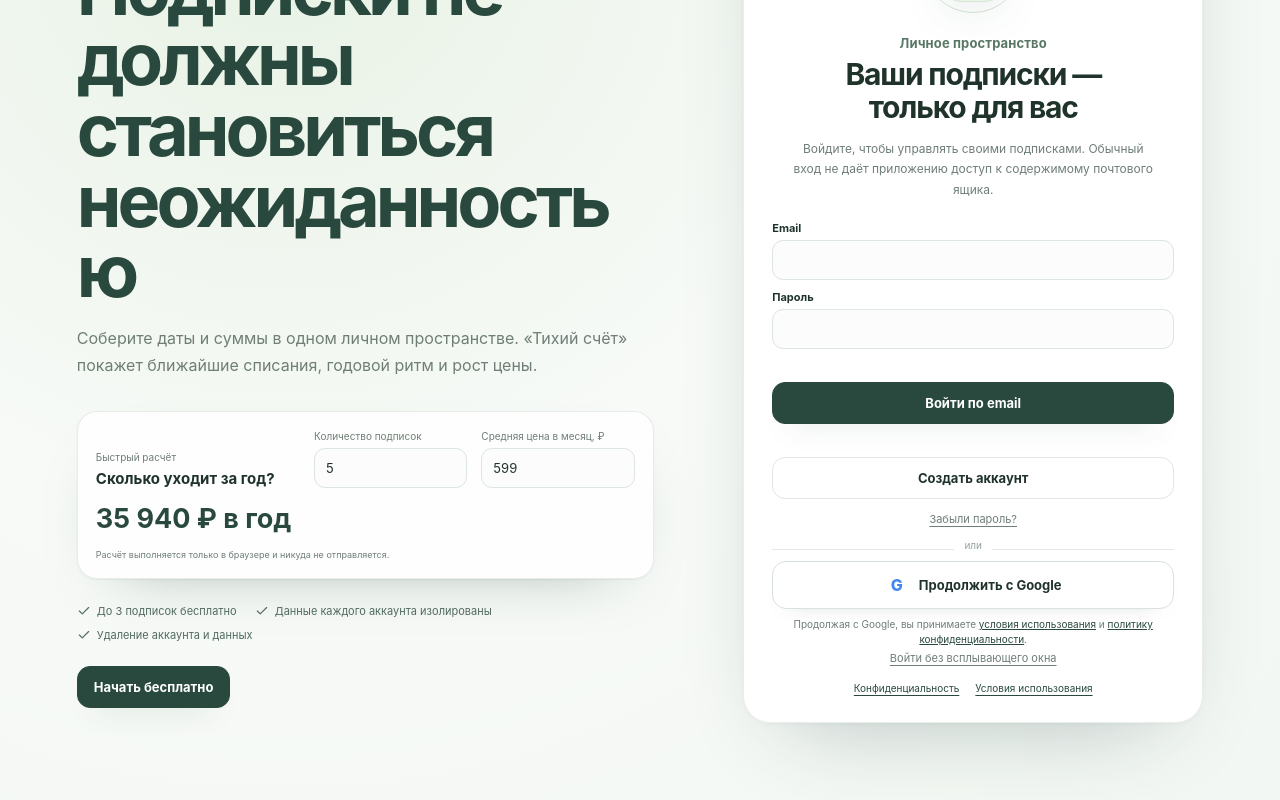
Scenario: rapid login clicks do not start concurrent popup requests
(page scrolled)
Click the button "G Продолжить с Google": click(973, 585) x1=772 y1=561 x2=1174 y2=609
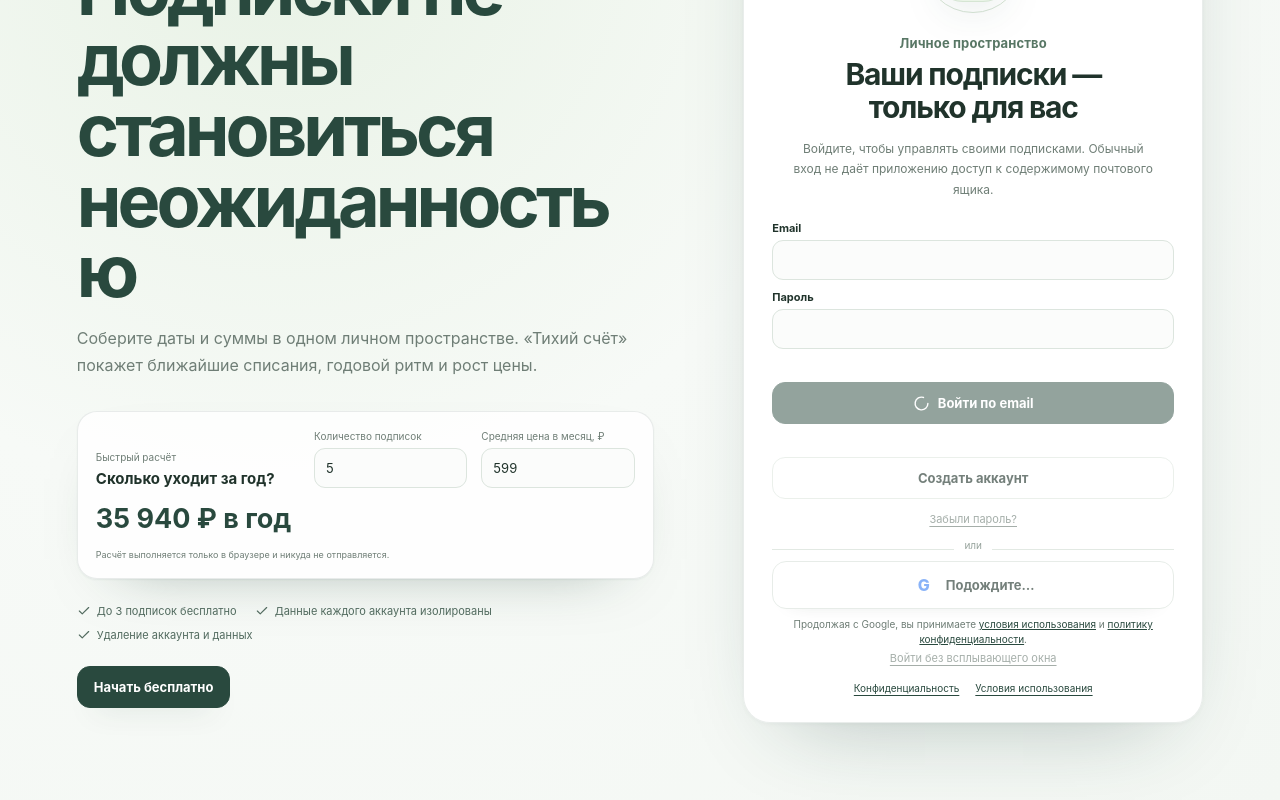
Click the button named "Продолжить с Google": click(973, 585) x1=772 y1=561 x2=1174 y2=609
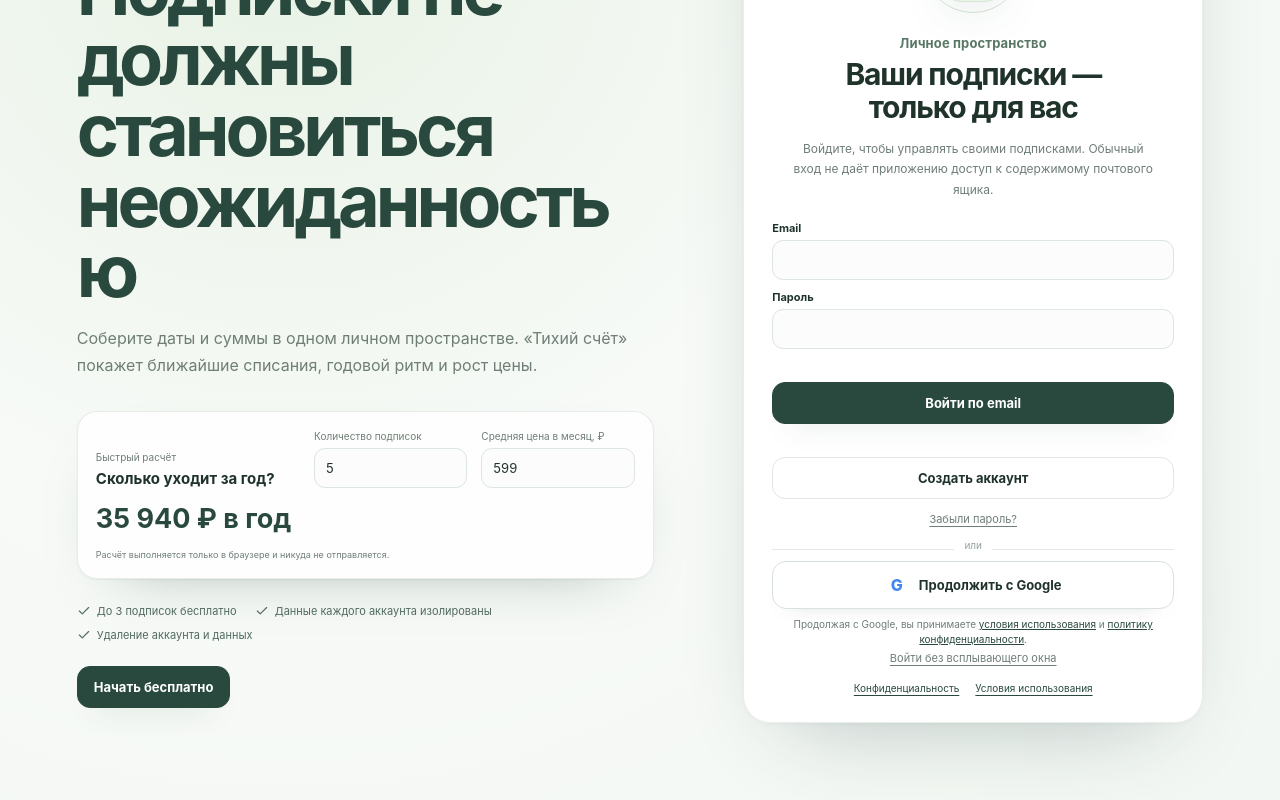
Check: the button "G Продолжить с Google" is enabled, box x1=772 y1=561 x2=1174 y2=609
